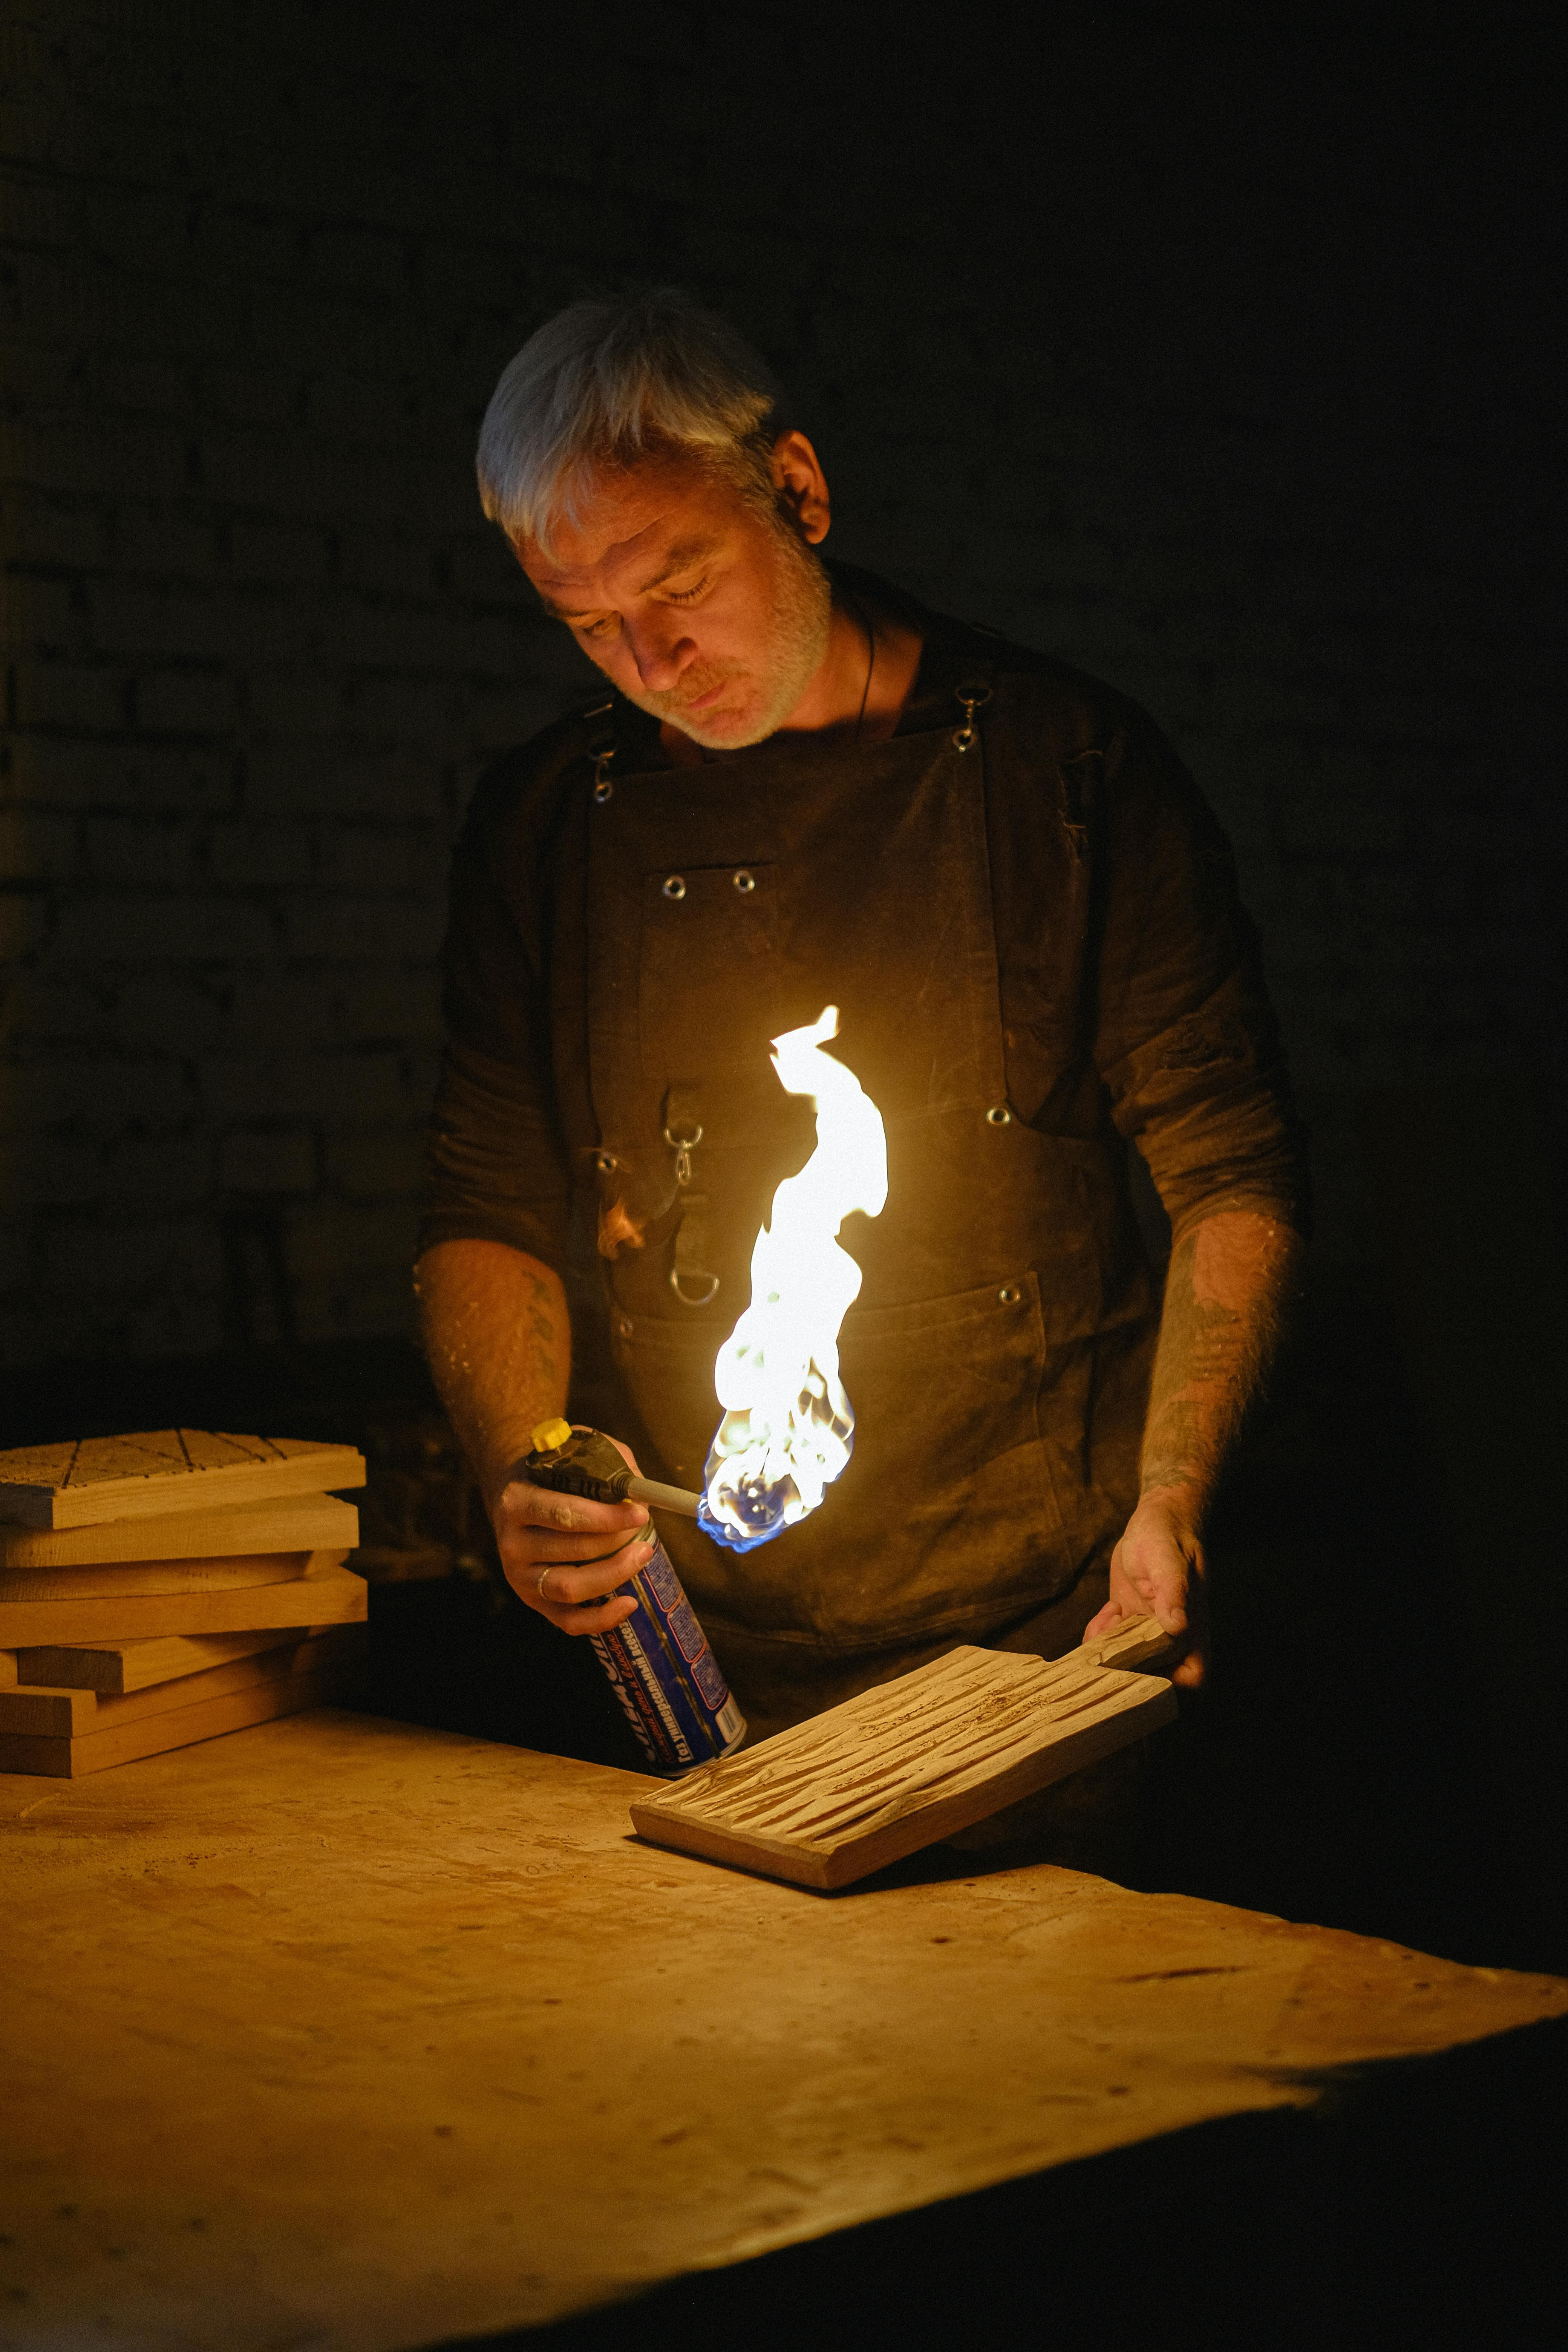Fire: (637, 989, 915, 1549)
